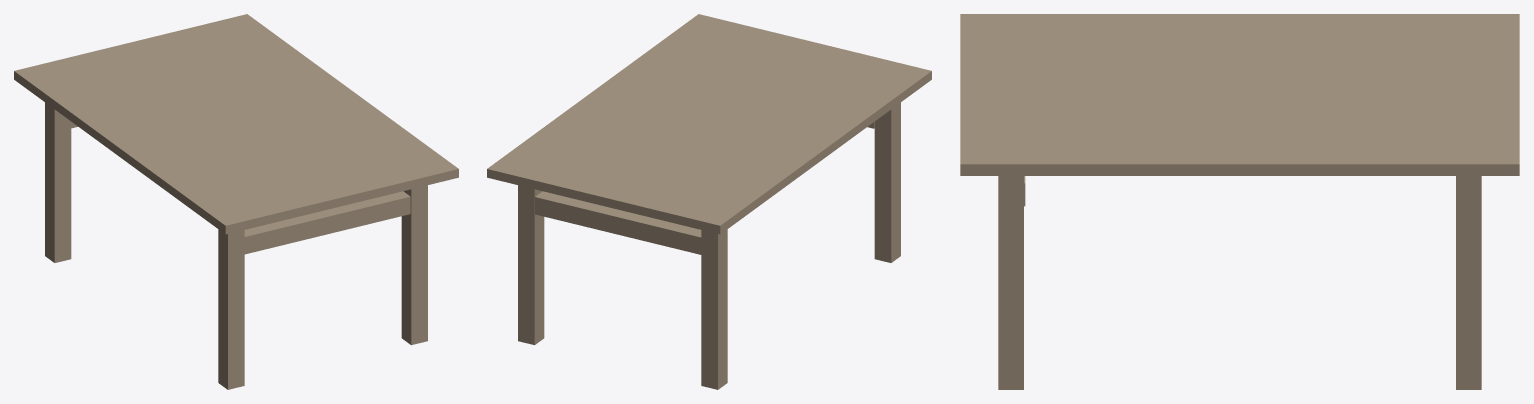
File: table0.fbx
3 renders of one model, left to right at view 1: azimuth 30°, elevation 25°; view 2: azimuth 150°, elevation 25°; view 3: azimuth 270°, elevation 25°, orthographic. The views are drawn at different scales.
Visible parts, largest first — view 1: Platte, Bein, Stütze_2, Bein_3, Bein_2; view 2: Platte, Stütze, Bein_3, Bein, Bein_4; view 3: Platte, Bein_2, Bein_4.
Part boxes in pixels (x1,y1,x2,y2): Platte: [14, 14, 458, 234]; Bein: [218, 229, 244, 389]; Stütze_2: [244, 191, 410, 254]; Bein_3: [45, 102, 71, 262]; Bein_2: [401, 185, 427, 345]; Platte: [487, 14, 931, 234]; Stütze: [535, 191, 701, 254]; Bein_3: [701, 229, 727, 389]; Bein: [874, 102, 900, 262]; Bein_4: [518, 185, 544, 345]; Platte: [960, 14, 1519, 175]; Bein_2: [998, 176, 1023, 389]; Bein_4: [1456, 176, 1481, 389].
Size of the model in its own units: 140 by 103 by 220.
